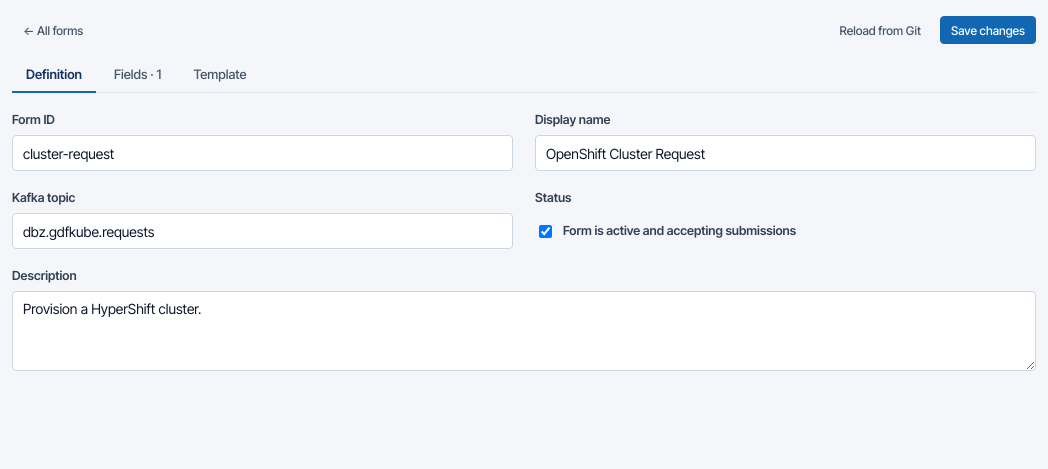
Test: FormEditor › Validation/options cell shows a regex input for text type
Click the tab "Fields · 1".
click(138, 76)  # box [100,58,175,93]
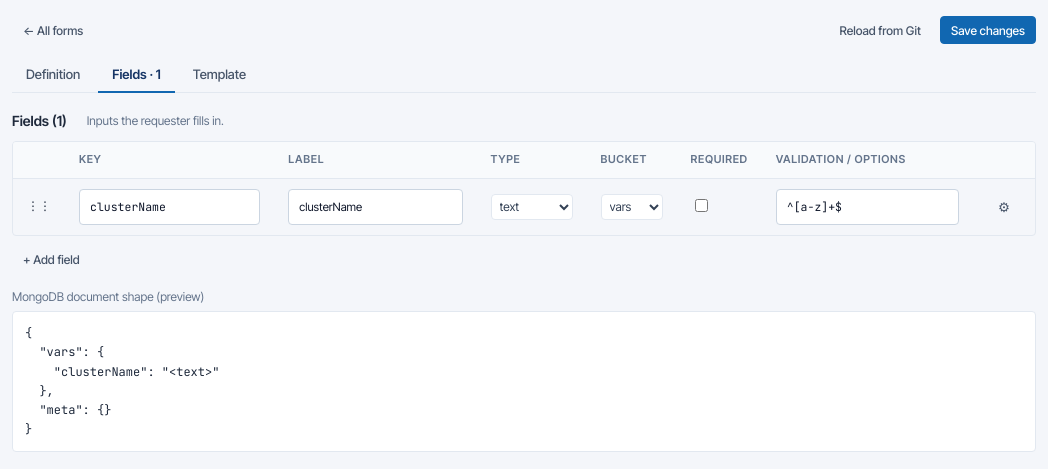
Expected: the field named "Validation for clusterName" holds "^[a-z]+$", [776,189,959,225]
